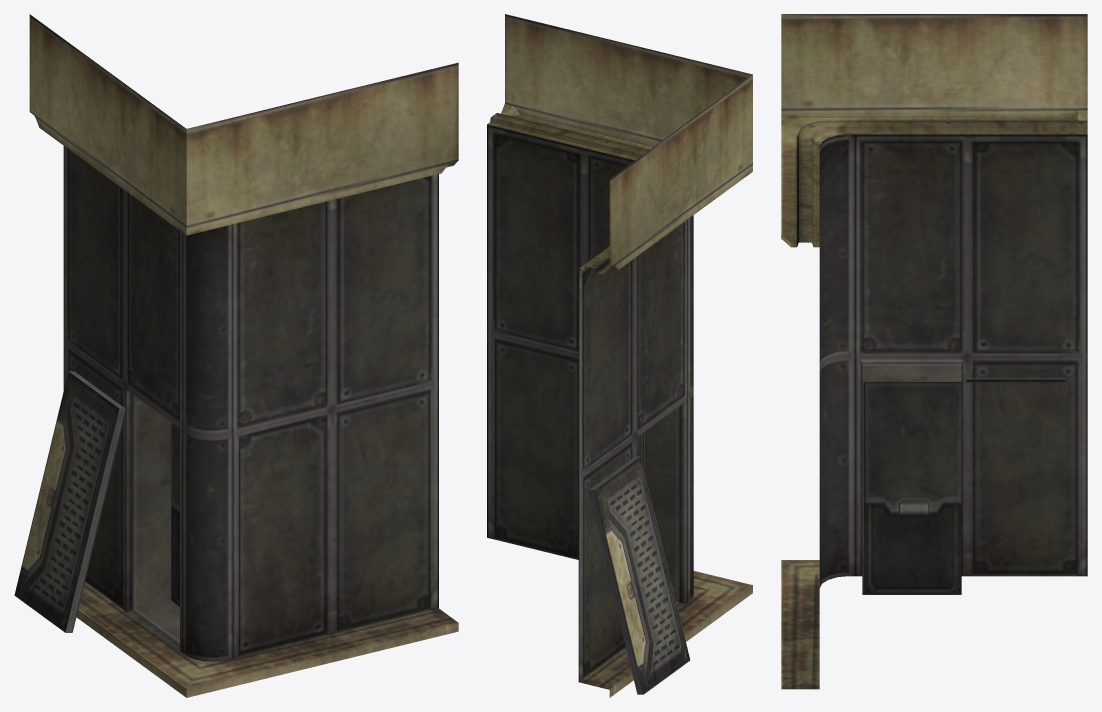
Rendered from pplant_ground_convex_short_panel_special.dae.
The picture shows the model from 3 angles, left to right: view 1: azimuth 30°, elevation 25°; view 2: azimuth 150°, elevation 25°; view 3: azimuth 270°, elevation 25°; orthographic projection. The views are drawn at different scales.
Visible parts, largest first — view 1: ground_convex_short; view 2: ground_convex_short; view 3: ground_convex_short.
Boxes of the visible parts, <box> form: ground_convex_short: <box>14,14,458,697</box>; ground_convex_short: <box>487,14,752,697</box>; ground_convex_short: <box>781,14,1087,689</box>.
Bounding box in the file's own units: 2.19 × 4 × 2.
